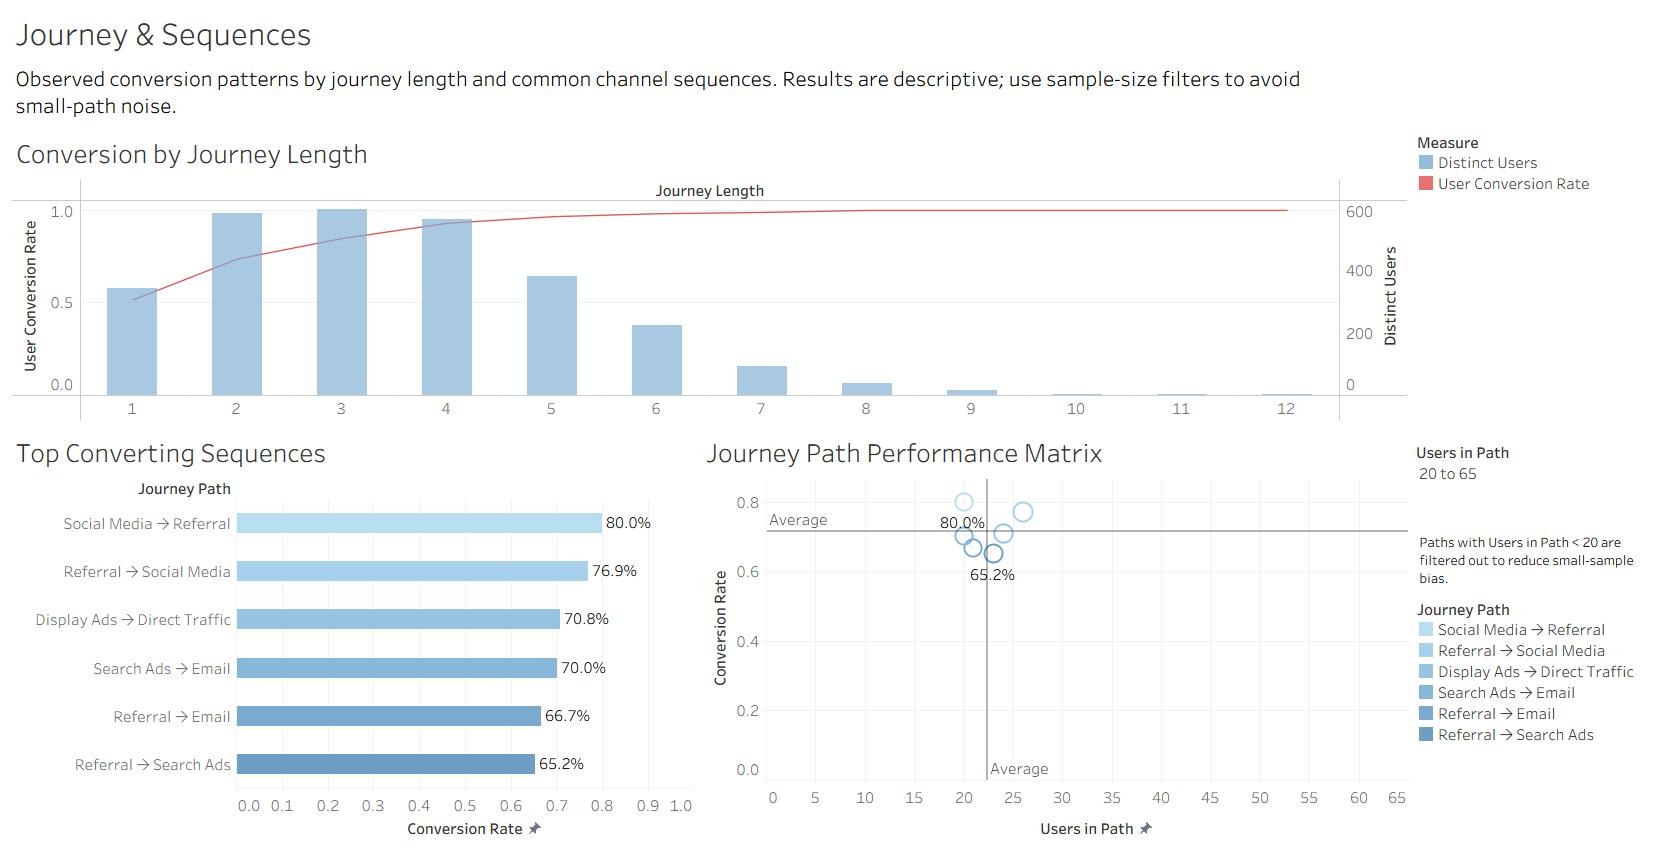

Layout of this report page (visuals, bound fields, positions):
{"tool":"tableau","page":{"name":"Journey & Sequences","canvas":[1000,1000],"units":"permille","ordinal":1},"visuals":[{"type":"title","box":[4.8,9.4,847.3,58.8]},{"type":"text","box":[4.8,68.2,847.3,79.9]},{"type":"legend","title":"Conversion by Journey Length","param":"[federated.1mprire1l5ndmp1aqkhgo01bt7it].[:Measure Names]","box":[852.1,148,143,84.6]},{"type":"worksheet","title":"Conversion by Journey Length","mark":"Area","rows":["Calculation_1132936819992403971","User ID"],"cols":["Calculation_1046805476516966428"],"box":[4.8,148.1,847.3,351.4]},{"type":"worksheet","title":"Top Converting Sequences","mark":"Automatic","rows":["Journey_Path"],"cols":["Conversion_Rate"],"box":[4.8,499.4,416.4,491.2]},{"type":"worksheet","title":"Journey Path Performance Matrix","mark":"Shape","rows":["Conversion_Rate"],"cols":["Users_in_Path"],"box":[421.2,499.4,430.9,491.2]},{"type":"filter","title":"Top Converting Sequences","param":"[federated.1dnw36c136lsob1bjvm131ylzo17].[none:Users_in_Path:qk]","box":[852.1,513.5,143,104.3]},{"type":"text","box":[852.1,617.8,143,79]},{"type":"legend","title":"Top Converting Sequences","param":"[federated.1dnw36c136lsob1bjvm131ylzo17].[none:Journey_Path:nk]","box":[852.1,696.8,143,293.8]}]}

Visuals, with their boxes on the dashboard's canvas, which has no fixed pixel size, in thousandths of its width and height (x1, y1, x2, y2). These are canvas units, not pixel positions in the 1657x851 screenshot, which may show the page scaled, cropped or inside an application window:
title: pyautogui.locateOnScreen(5, 9, 852, 68)
text: pyautogui.locateOnScreen(5, 68, 852, 148)
"Conversion by Journey Length" legend: pyautogui.locateOnScreen(852, 148, 995, 233)
"Conversion by Journey Length" worksheet (Area marks): pyautogui.locateOnScreen(5, 148, 852, 500)
"Top Converting Sequences" worksheet: pyautogui.locateOnScreen(5, 499, 421, 991)
"Journey Path Performance Matrix" worksheet (Shape marks): pyautogui.locateOnScreen(421, 499, 852, 991)
"Top Converting Sequences" filter: pyautogui.locateOnScreen(852, 514, 995, 618)
text: pyautogui.locateOnScreen(852, 618, 995, 697)
"Top Converting Sequences" legend: pyautogui.locateOnScreen(852, 697, 995, 991)
